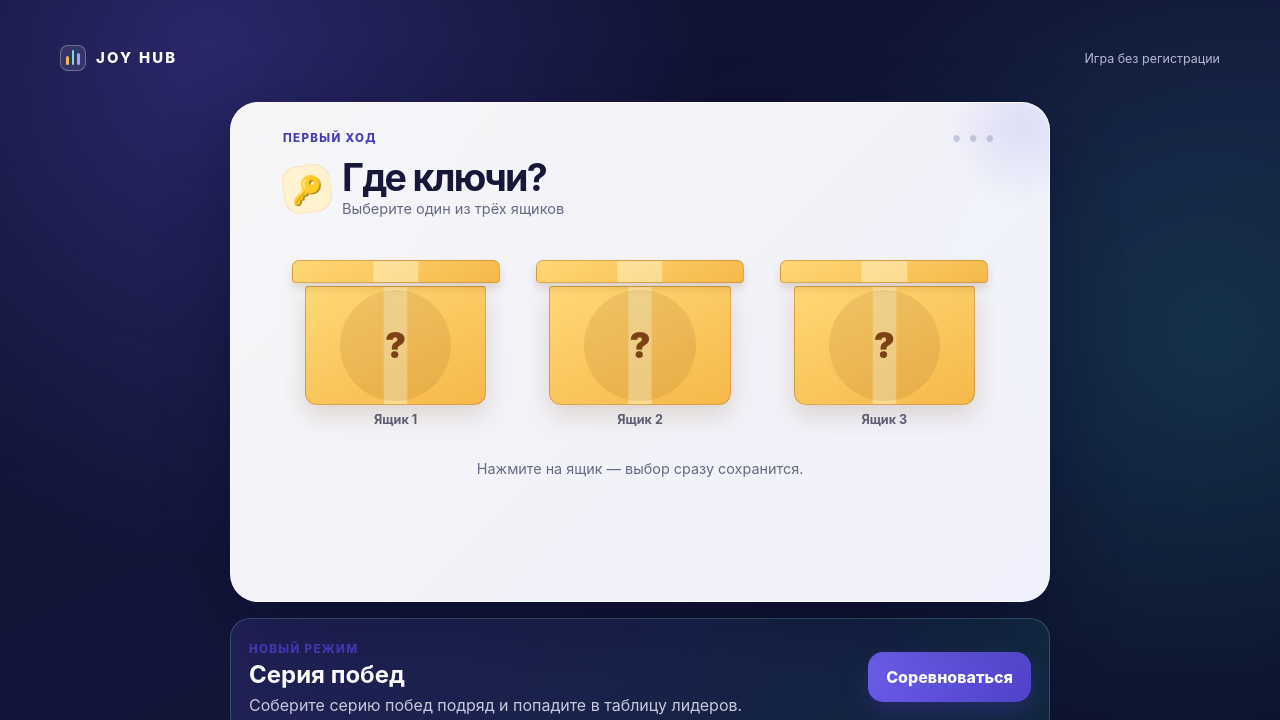
Test case: Monty Hall application › creates a game, selects a box, switches and verifies the result
What coordinates should you click on to do the following:
click the button named "Выбрать ящик 3"
I would click on:
 (884, 326)
Its box is left=770, top=242, right=999, bottom=409.
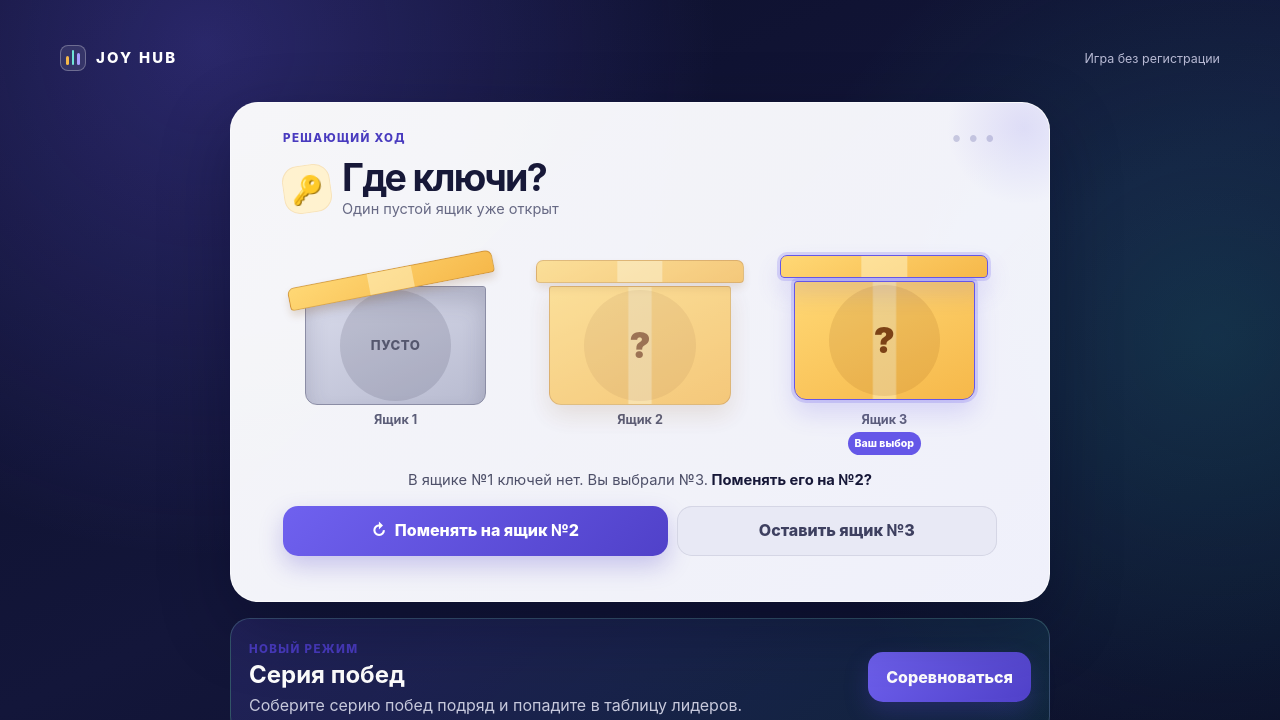
expect the button with aria-label "Ящик 1: пусто" is disabled: met, box left=281, top=242, right=510, bottom=409
expect the text "В ящике №1 ключей нет. Вы выбрали №3. Поменять его на №2?" is shown: met, box left=408, top=471, right=872, bottom=489
What coordinates should you click on to do the following:
click the button "↻ Поменять на ящик №2"
I would click on:
 (475, 531)
Its box is left=283, top=506, right=668, bottom=556.
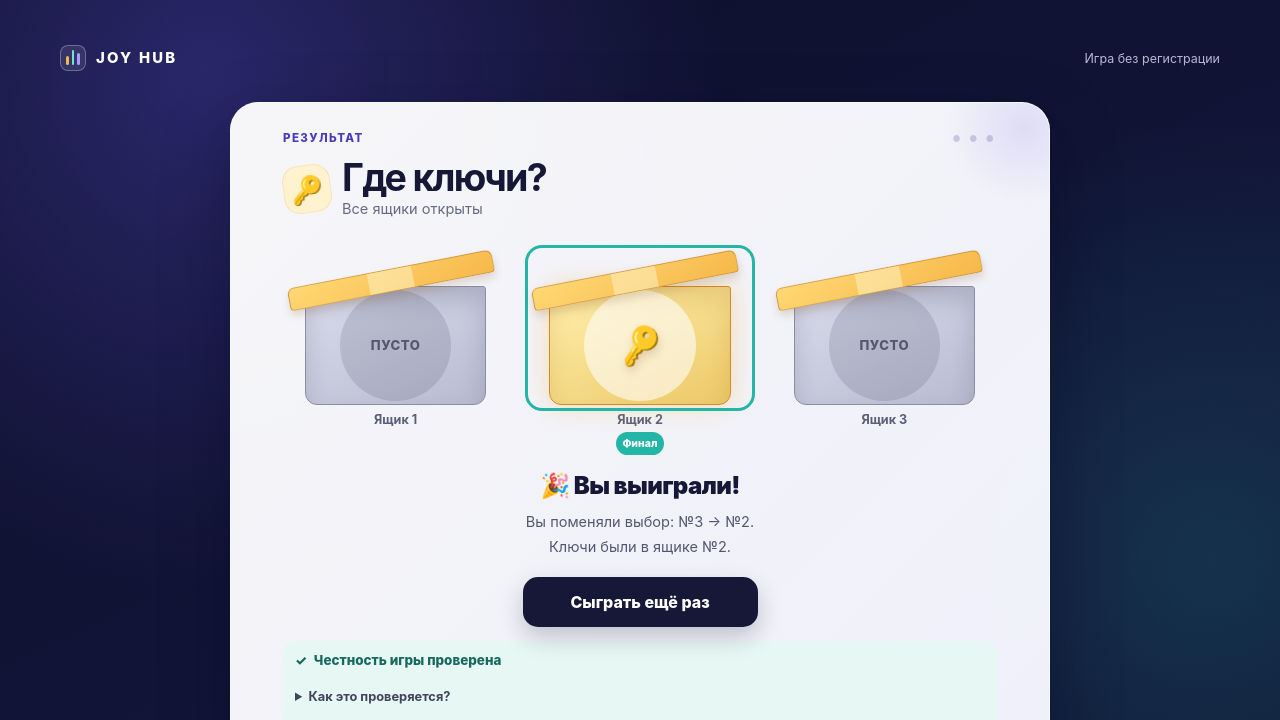
expect the text "🎉 Вы выиграли!" is shown: met, box left=540, top=471, right=740, bottom=500
expect the text "Вы поменяли выбор: №3 → №2." is shown: met, box left=526, top=513, right=754, bottom=531
expect the text "Честность игры проверена" is shown: met, box left=314, top=652, right=501, bottom=668
